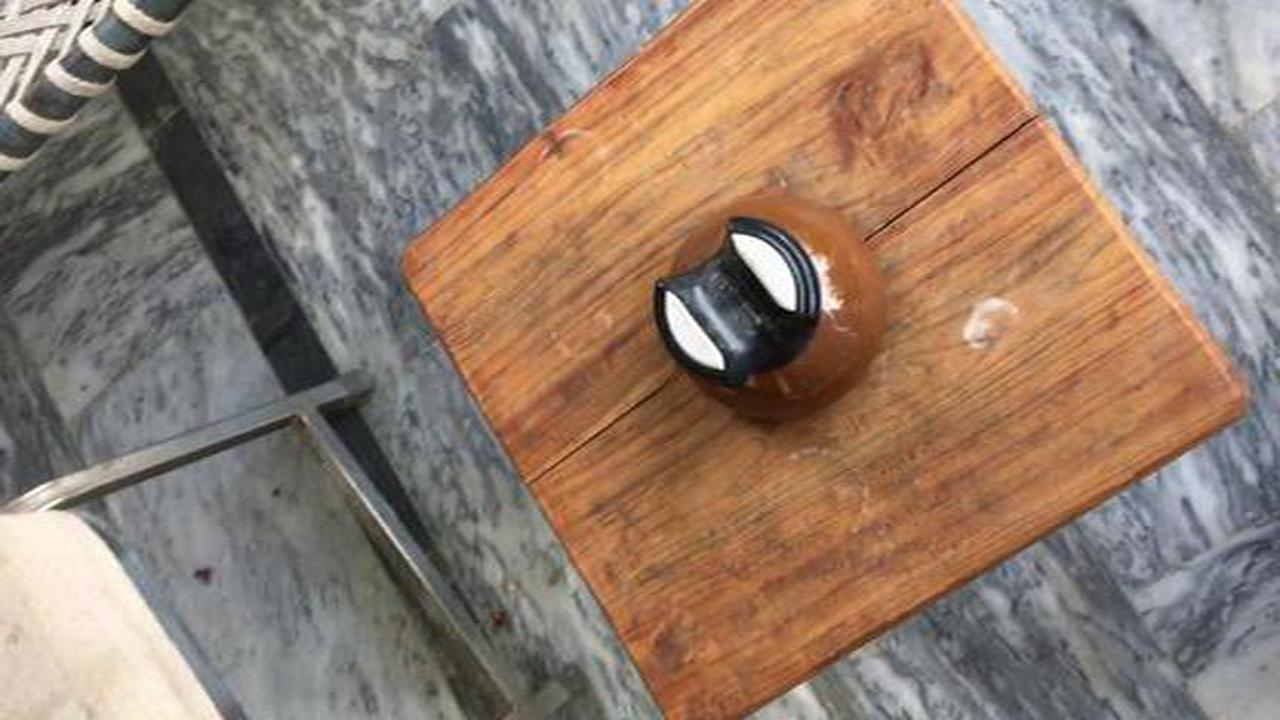insulator_pin: (634, 189, 914, 433)
